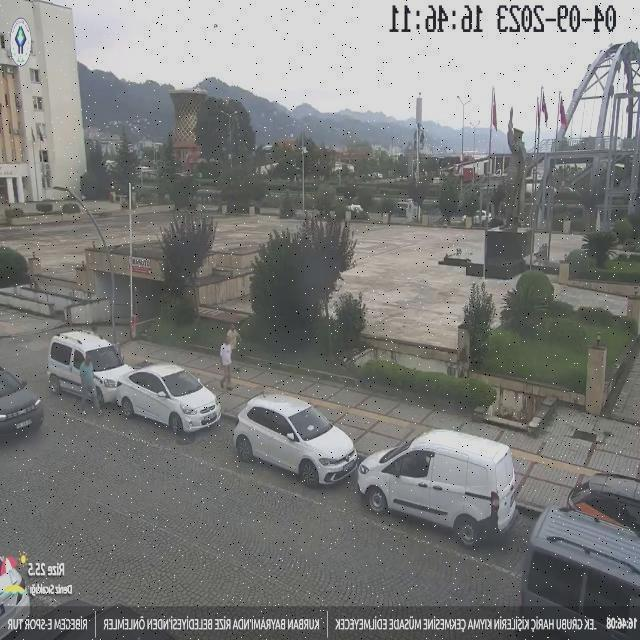Car: (230, 384, 360, 494), (115, 362, 224, 440), (0, 362, 56, 436)
Van: (347, 422, 526, 550), (522, 498, 640, 640), (44, 326, 140, 412)
